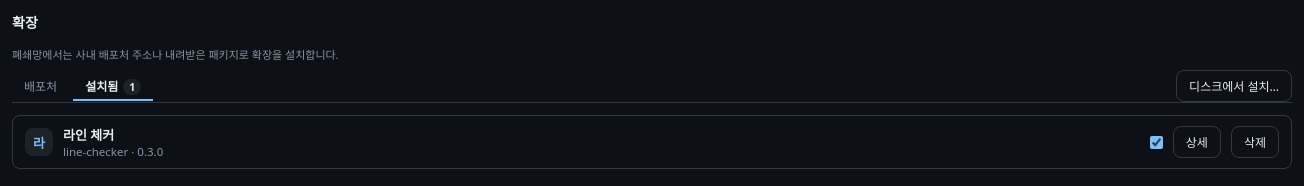
Test: 삭제 › 물음을 취소하면 아무 일도 없다
This screenshot has width=1304, height=186.
Click the button "삭제". click: (1255, 142)
box: [1231,126,1279,158]
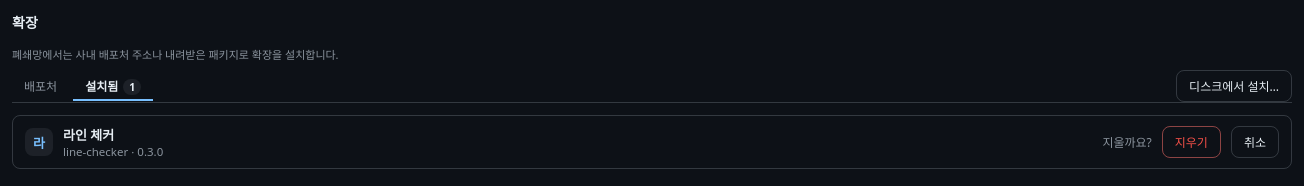
Click the button "취소". click: (1255, 142)
box: [1231,126,1279,158]
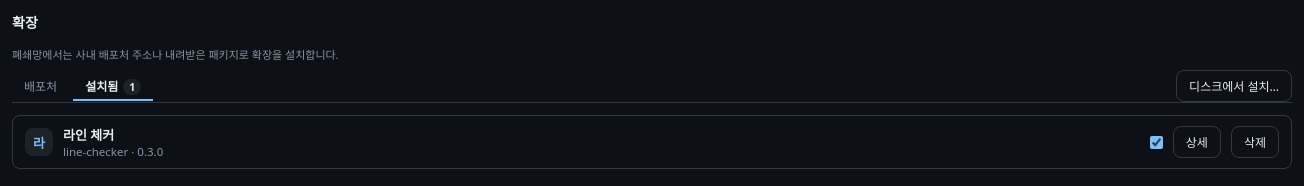
Now the button "삭제" is shown, box [1231,126,1279,158]
